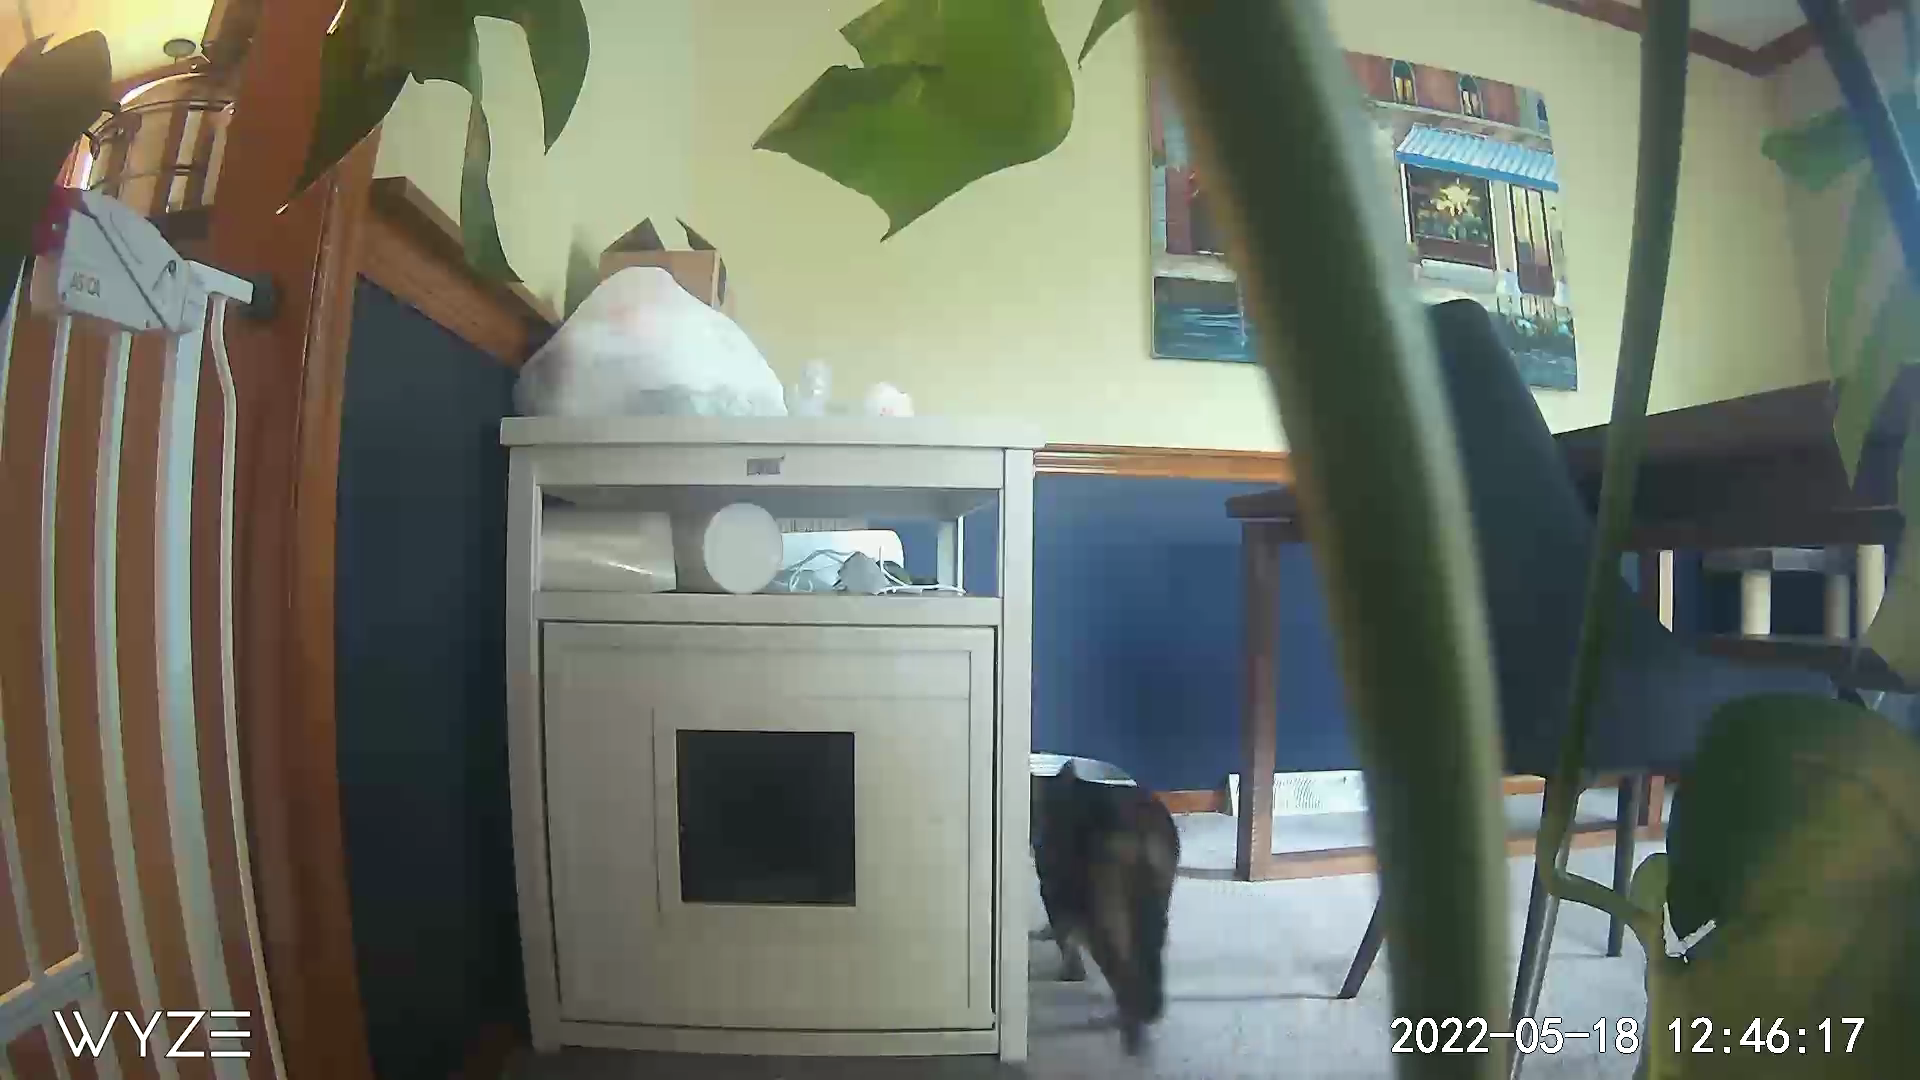sparky: (1031, 771, 1191, 1058)
